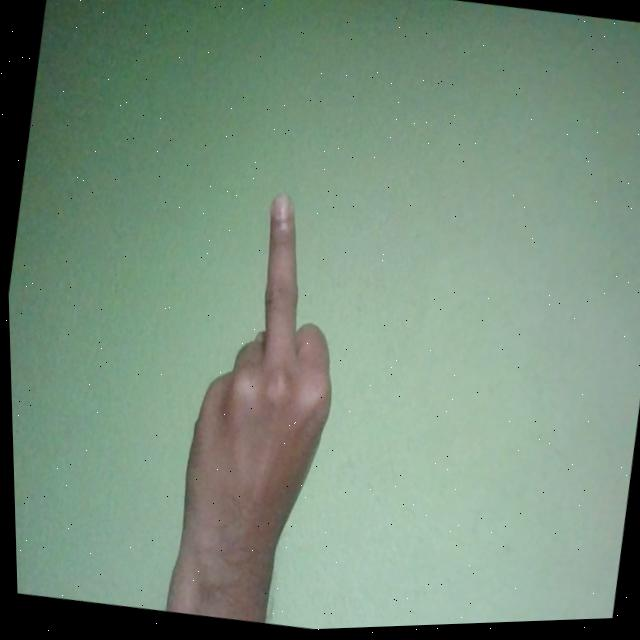Middle Finger: (158, 184, 366, 626)
